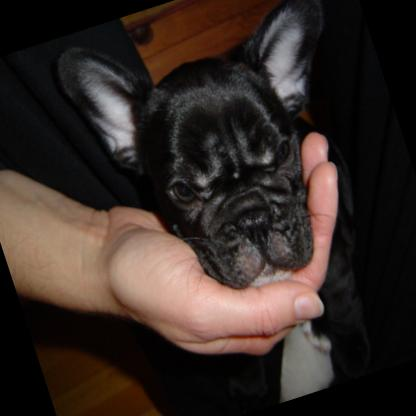French_bulldog: (50, 0, 416, 416)
